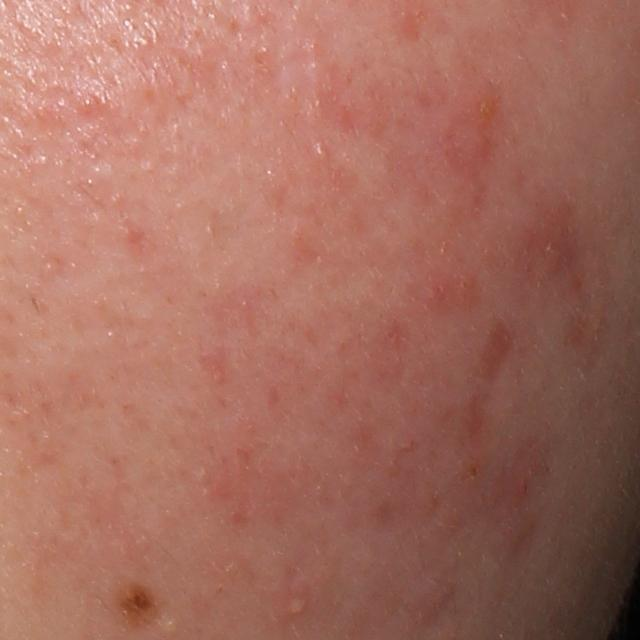comedo: (310, 141, 333, 166), (75, 94, 96, 117)
nevus: (115, 576, 159, 636)
pustule: (283, 588, 312, 624)
